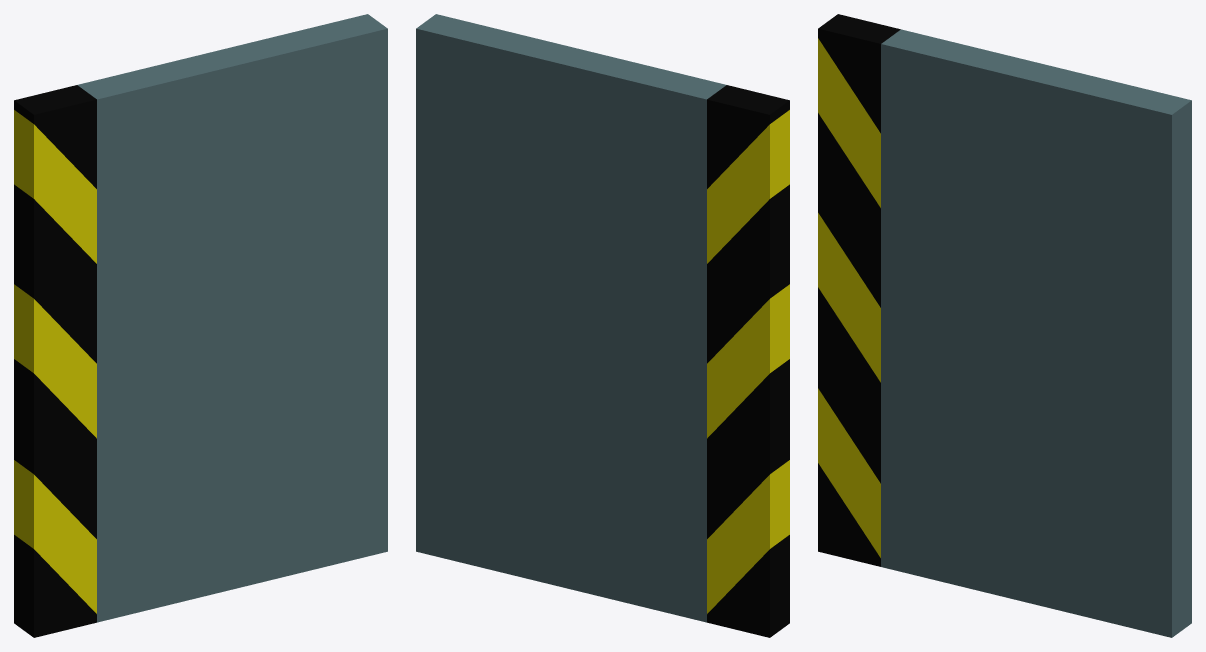
The model's file is HangarDoor.fbx.
3 views of the same model, side by side, from view 1: azimuth 30°, elevation 25°; view 2: azimuth 150°, elevation 25°; view 3: azimuth 330°, elevation 25° (orthographic).
Parts seen in each view (by area): view 1: Cube; view 2: Cube; view 3: Cube.
Part boxes in pixels (bbox=[...]): Cube: bbox=[14, 14, 387, 637]; Cube: bbox=[416, 14, 789, 637]; Cube: bbox=[818, 14, 1191, 637].
Size of the model in its own units: 918 by 1297 by 89.72.
